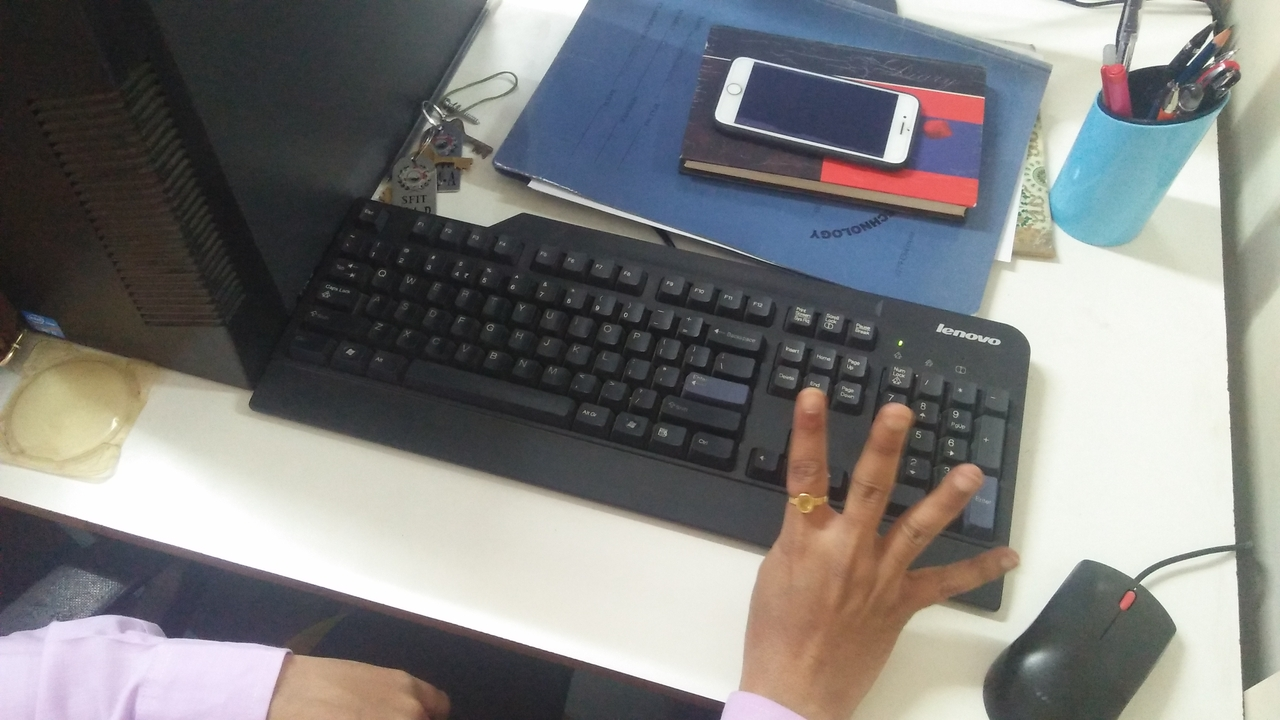fingertip: (924, 460, 996, 514), (864, 400, 920, 450), (790, 388, 836, 430), (987, 545, 1026, 581)
